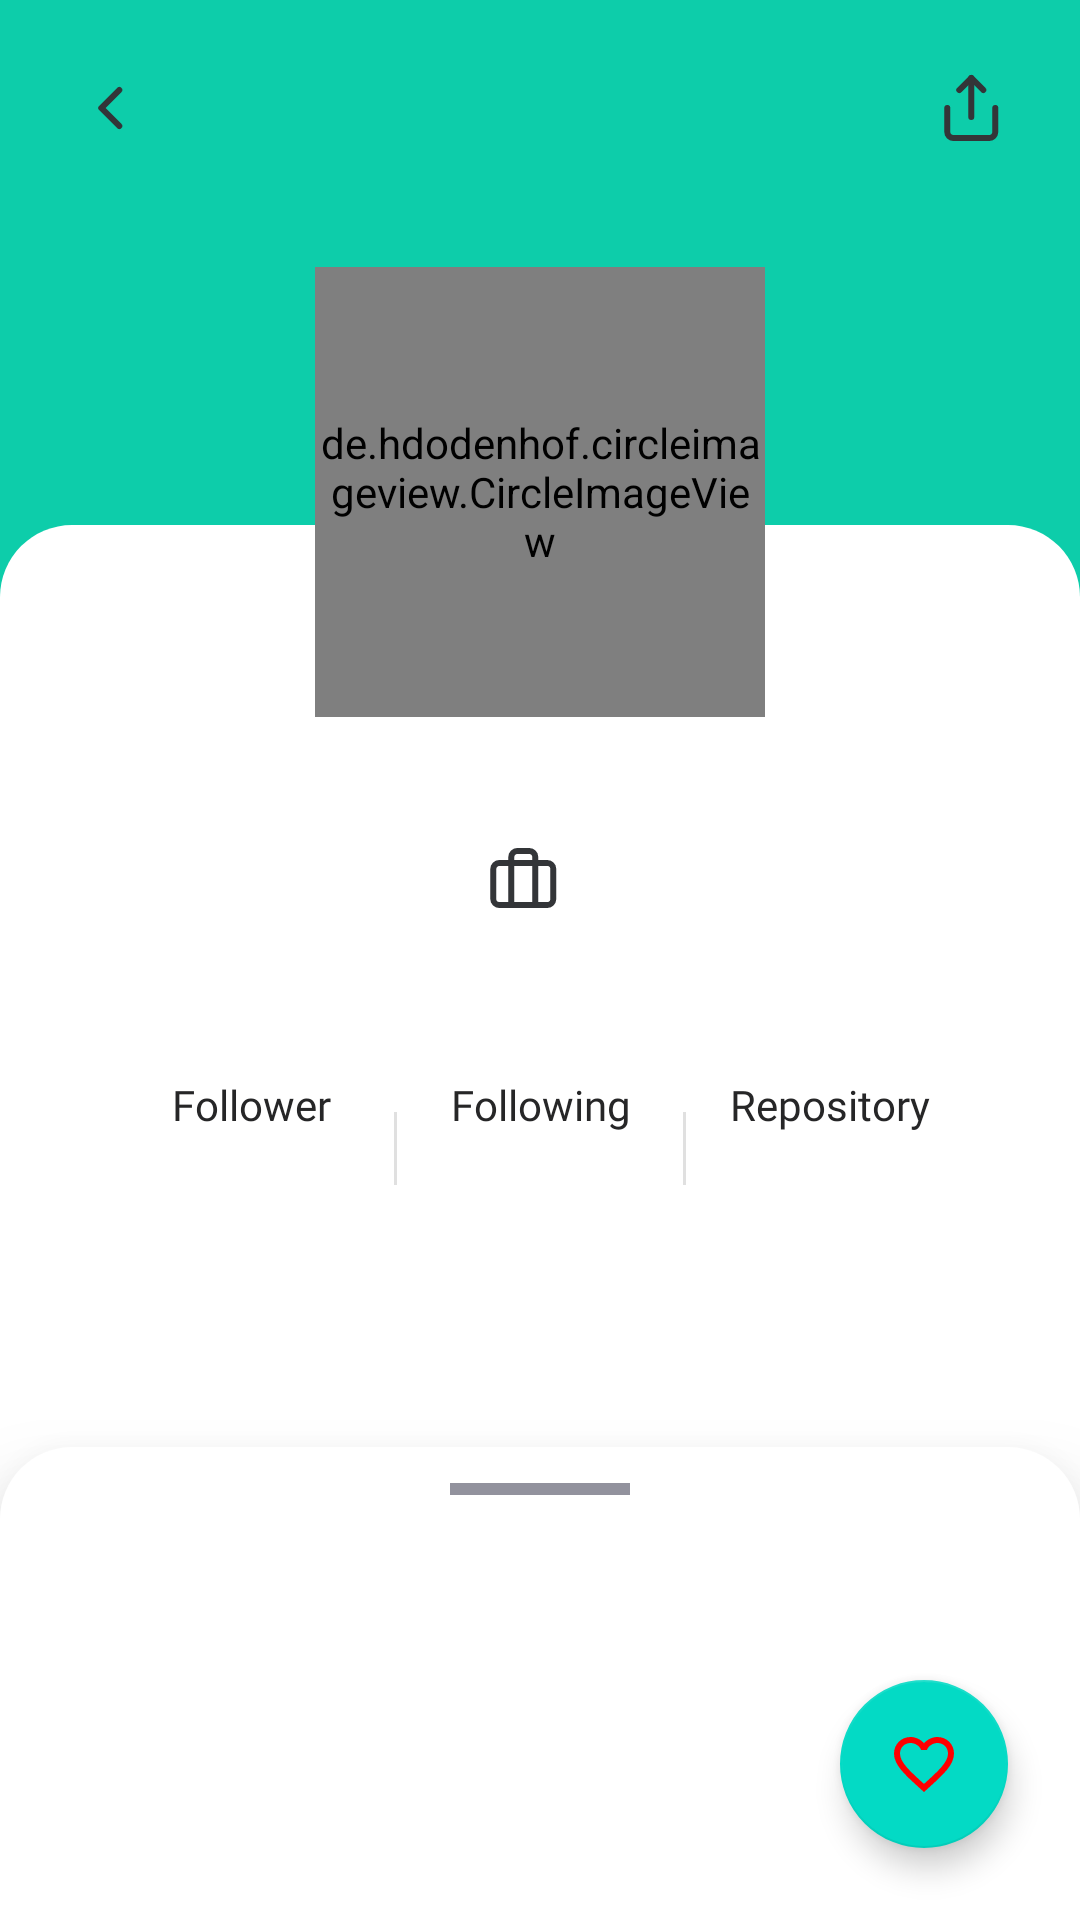

Where to tap for icons on this 1080px×1920px app screen, as (x=x, y=y):
Icon Back: (x=110, y=108)
Icon Favorite: (x=924, y=1764)
Icon Share: (x=971, y=108)
